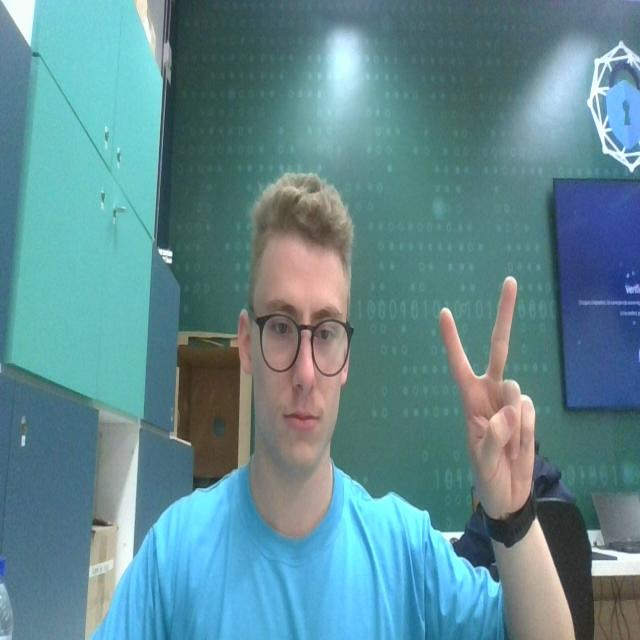V: (432, 266, 542, 516)
